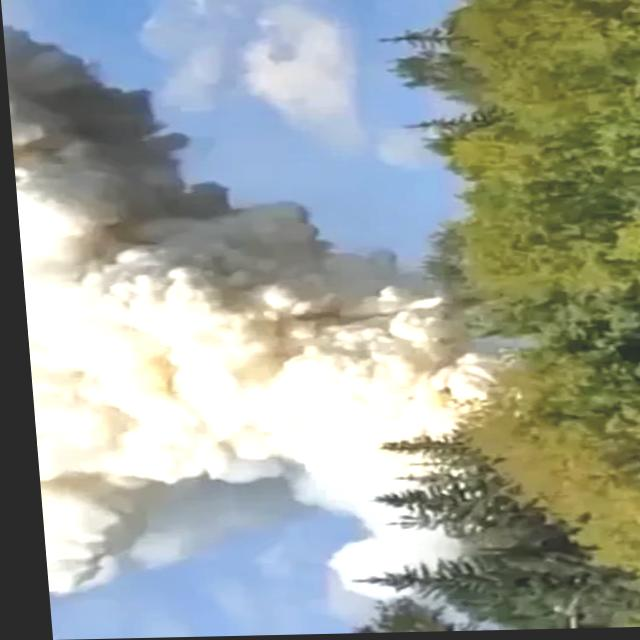no_helmet: (1, 13, 484, 602)
